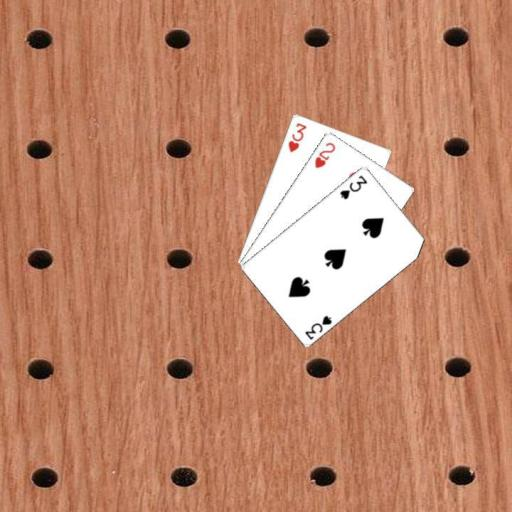2H: (312, 139, 337, 169)
3H: (285, 120, 308, 154)
3S: (302, 312, 334, 341), (337, 172, 368, 201)
